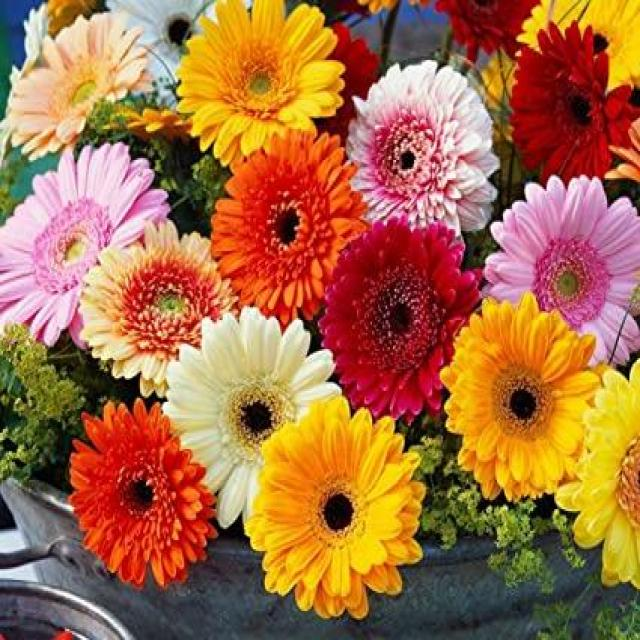organic waste: (157, 313, 366, 527), (5, 146, 166, 358), (444, 288, 590, 516), (324, 225, 486, 426), (255, 393, 408, 605), (66, 393, 229, 589), (174, 2, 361, 156), (342, 58, 485, 247), (86, 229, 248, 389), (494, 184, 632, 366), (214, 124, 354, 301), (500, 28, 623, 186), (6, 25, 143, 144)
